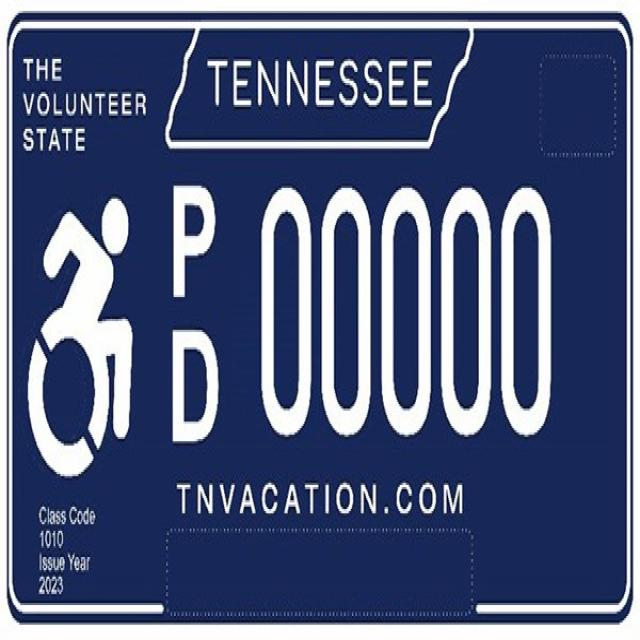symbol_of_access: (22, 191, 148, 486)
